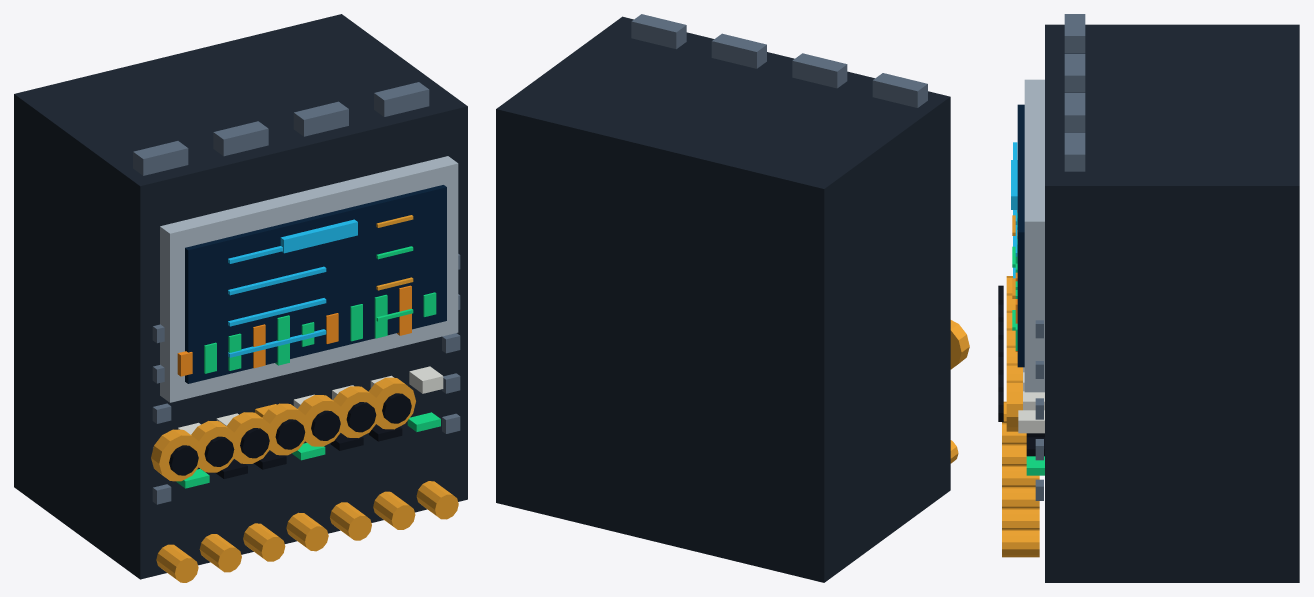
File: 68_L87_OrbitalRingPowerBudgetAnalyzer.fbx
3 views of the same model, side by side, from view 1: azimuth 30°, elevation 25°; view 2: azimuth 150°, elevation 25°; view 3: azimuth 270°, elevation 25° (orthographic).
Visible parts, largest first — view 1: L87_OrbitalRingPowerBudgetAnalyzer, L87_OrbitalRingPowerBudgetAnalyzer_Part_0009, L87_OrbitalRingPowerBudgetAnalyzer_Part_0012, L87_OrbitalRingPowerBudgetAnalyzer_Part_0011, L87_OrbitalRingPowerBudgetAnalyzer_Part_0013, L87_OrbitalRingPowerBudgetAnalyzer_Part_0010, L87_OrbitalRingPowerBudgetAnalyzer_Part_0025, L87_OrbitalRingPowerBudgetAnalyzer_Part_0023, L87_OrbitalRingPowerBudgetAnalyzer_Part_0015, L87_OrbitalRingPowerBudgetAnalyzer_Part_0017, L87_OrbitalRingPowerBudgetAnalyzer_Part_0019, L87_OrbitalRingPowerBudgetAnalyzer_Part_0021 (+7 smaller); view 2: L87_OrbitalRingPowerBudgetAnalyzer, L87_OrbitalRingPowerBudgetAnalyzer_Part_0009, L87_OrbitalRingPowerBudgetAnalyzer_Part_0013; view 3: L87_OrbitalRingPowerBudgetAnalyzer, L87_OrbitalRingPowerBudgetAnalyzer_Part_0009, L87_OrbitalRingPowerBudgetAnalyzer_Part_0025.
Part boxes in pixels (x1,y1,x2,y2): L87_OrbitalRingPowerBudgetAnalyzer: (14, 14, 467, 582); L87_OrbitalRingPowerBudgetAnalyzer_Part_0009: (133, 82, 429, 175); L87_OrbitalRingPowerBudgetAnalyzer_Part_0012: (204, 292, 436, 373); L87_OrbitalRingPowerBudgetAnalyzer_Part_0011: (177, 285, 411, 376); L87_OrbitalRingPowerBudgetAnalyzer_Part_0013: (151, 429, 202, 481); L87_OrbitalRingPowerBudgetAnalyzer_Part_0010: (280, 219, 357, 253); L87_OrbitalRingPowerBudgetAnalyzer_Part_0025: (368, 377, 415, 429); L87_OrbitalRingPowerBudgetAnalyzer_Part_0023: (333, 386, 380, 437); L87_OrbitalRingPowerBudgetAnalyzer_Part_0015: (191, 421, 238, 472); L87_OrbitalRingPowerBudgetAnalyzer_Part_0017: (226, 412, 273, 463); L87_OrbitalRingPowerBudgetAnalyzer_Part_0019: (262, 403, 309, 455); L87_OrbitalRingPowerBudgetAnalyzer_Part_0021: (298, 395, 344, 446); L87_OrbitalRingPowerBudgetAnalyzer: (496, 16, 958, 582); L87_OrbitalRingPowerBudgetAnalyzer_Part_0009: (631, 14, 927, 107); L87_OrbitalRingPowerBudgetAnalyzer_Part_0013: (950, 320, 969, 369); L87_OrbitalRingPowerBudgetAnalyzer: (1002, 24, 1299, 582); L87_OrbitalRingPowerBudgetAnalyzer_Part_0009: (1064, 14, 1085, 171); L87_OrbitalRingPowerBudgetAnalyzer_Part_0025: (1006, 380, 1022, 431).
Size of the model in its own units: 96.95 by 116 by 76.5.
